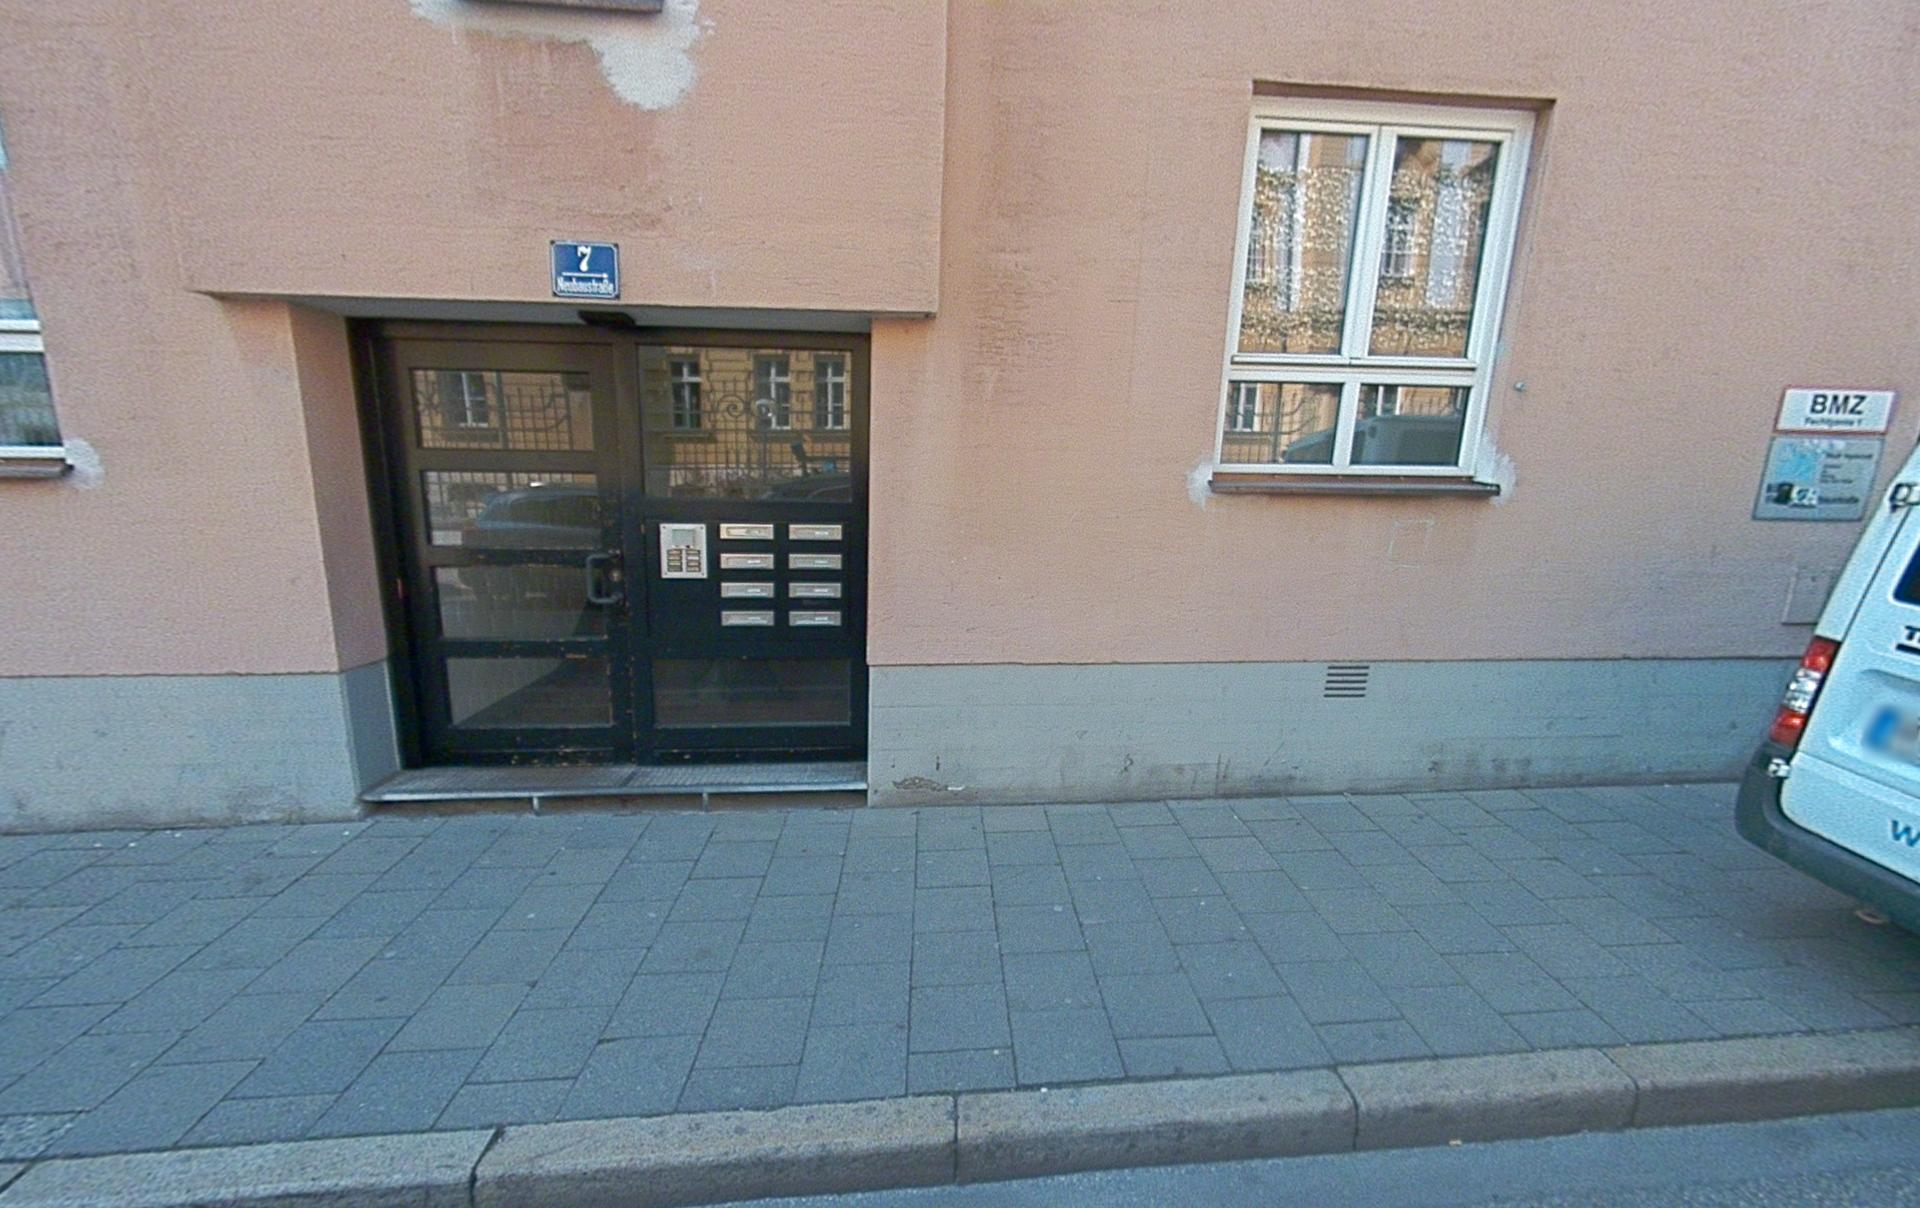car: (1734, 431, 1920, 935), (459, 482, 612, 611)
traffic sign: (1752, 433, 1884, 522), (1774, 386, 1896, 434), (551, 241, 621, 299)
